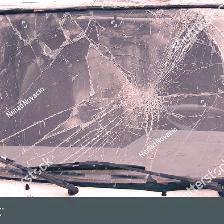glass_shatter: (59, 48, 185, 140)
